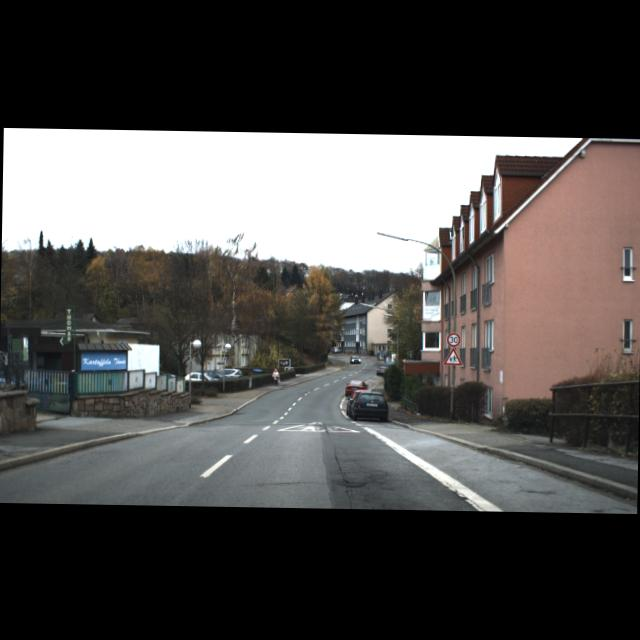danger: (442, 346, 462, 365)
prohibitory: (446, 332, 460, 346)
